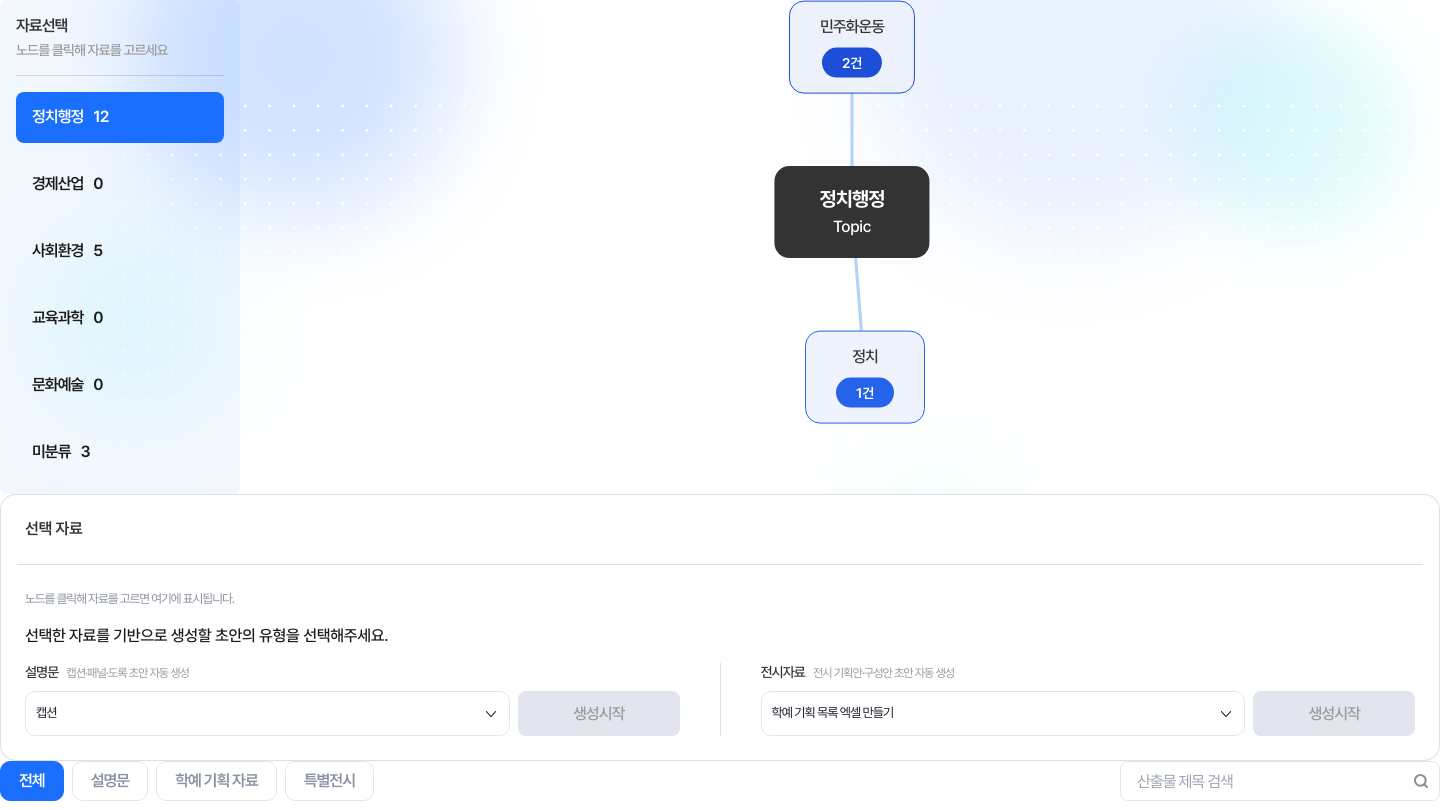
it: 노드 모달 — 200건 어디서든 이름을 그린다 › graph.items의 이름으로 자료를 그린다(현재 페이지 20건에 없어도)
Click the button "민주화운동 2건" at (852, 47), box [789, 1, 915, 93]
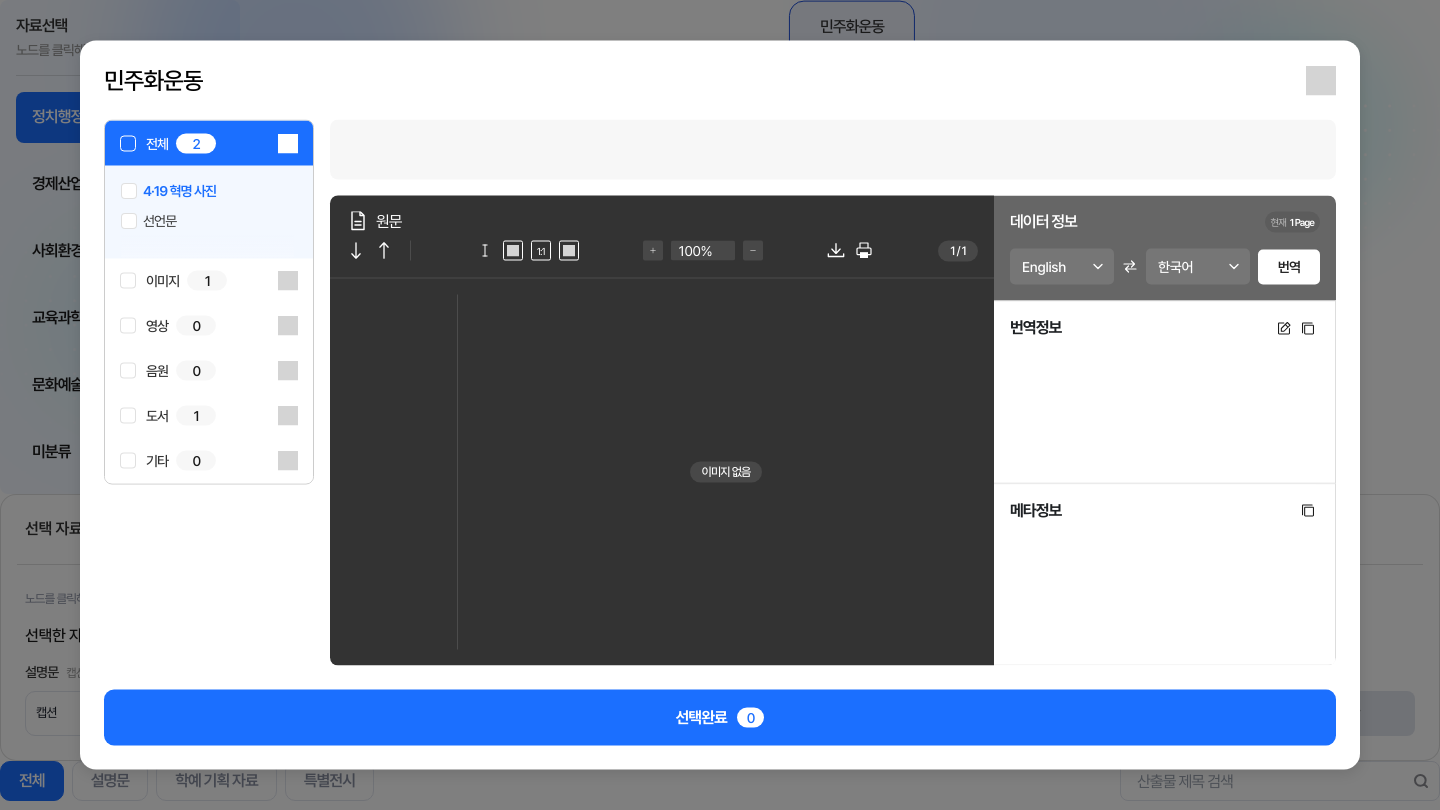
Check: the button "4·19 혁명 사진" is shown, box [143, 182, 294, 200]
